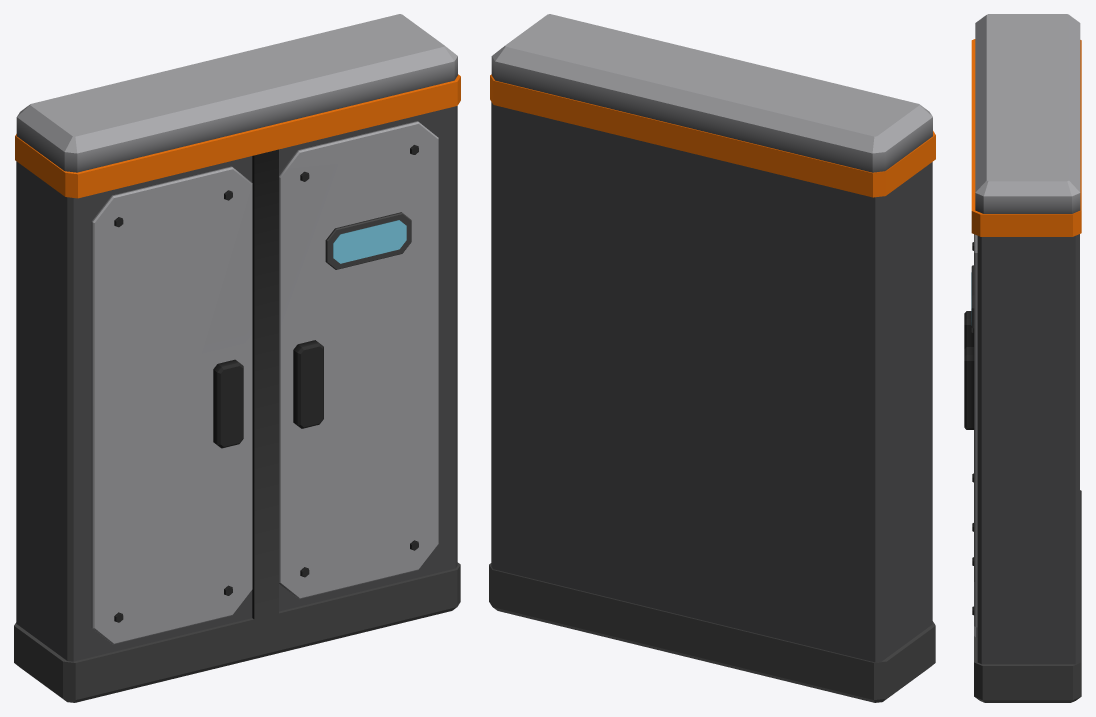
Rendered from storage-cabinet.glb.
3 views of the same model, side by side, from view 1: azimuth 30°, elevation 25°; view 2: azimuth 150°, elevation 25°; view 3: azimuth 270°, elevation 25° (orthographic). The views are drawn at different scales.
Visible parts, largest first — view 1: cabinet; view 2: cabinet; view 3: cabinet.
Part boxes in pixels (left/top/right/bottom): cabinet: left=14, top=14, right=460, bottom=702; cabinet: left=489, top=14, right=935, bottom=702; cabinet: left=964, top=14, right=1081, bottom=702.
Bounding box in the file's own units: 1.48 × 2 × 0.41.
Materials: 1 (1 with a texture image).
